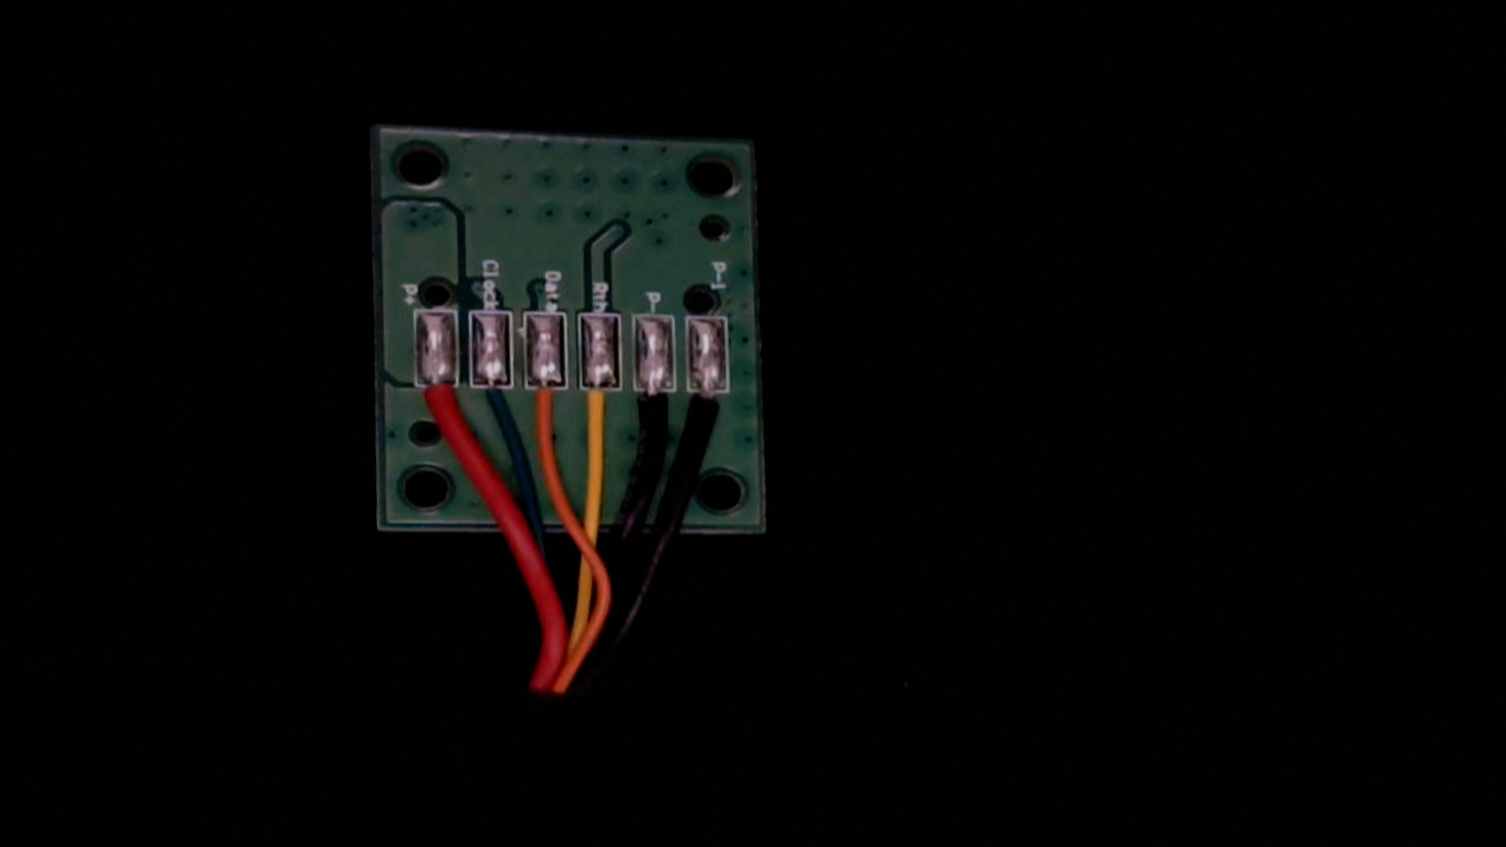Black: (630, 366, 677, 448)
Black1: (684, 368, 733, 454)
Green: (472, 364, 520, 445)
Orange: (522, 365, 569, 449)
Red: (416, 364, 464, 445)
Yellow: (580, 365, 621, 443)
